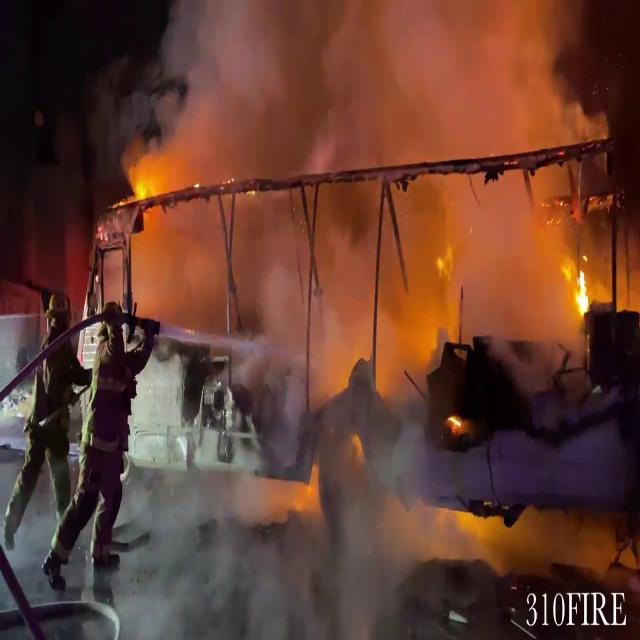Fire: (569, 256, 598, 324)
Smoke: (110, 0, 580, 390)
